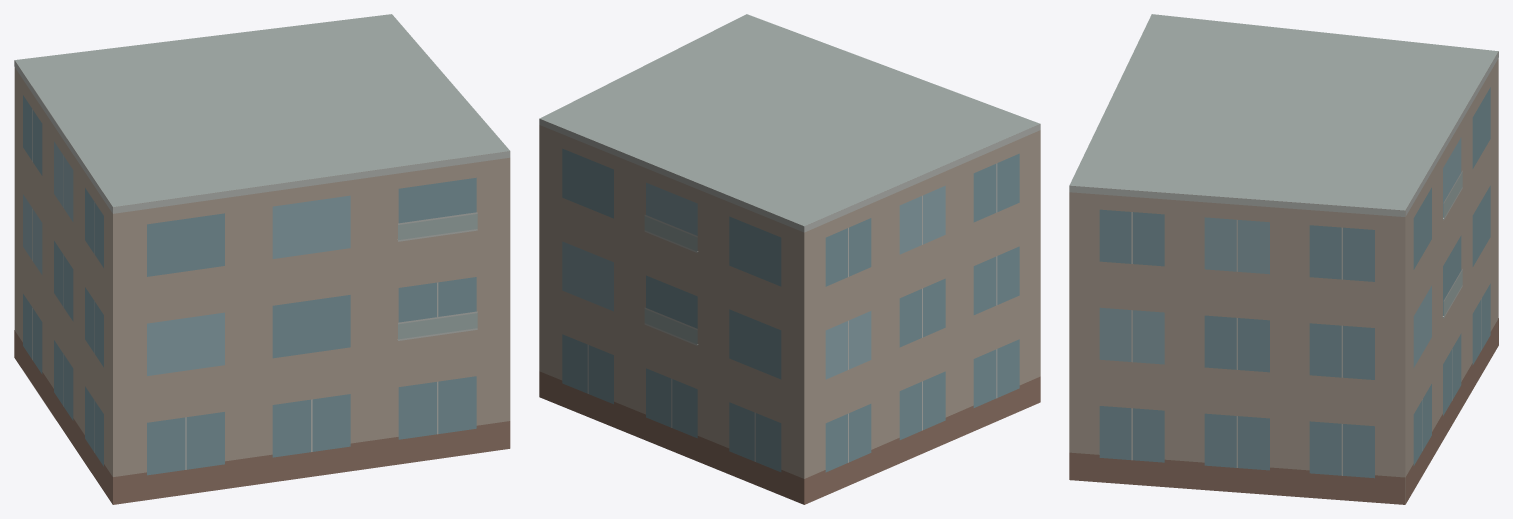
The model's file is survey-upis-32663397.glb.
The picture shows the model from 3 angles, left to right: view 1: azimuth 30°, elevation 25°; view 2: azimuth 150°, elevation 25°; view 3: azimuth 270°, elevation 25°; orthographic projection. The views are drawn at different scales.
Visible parts, largest first — view 1: survey-upis-32663397.tmp; view 2: survey-upis-32663397.tmp; view 3: survey-upis-32663397.tmp.
Boxes of the visible parts, x1,y1,x2,y2 form: survey-upis-32663397.tmp: (14,14,510,504); survey-upis-32663397.tmp: (539,14,1040,504); survey-upis-32663397.tmp: (1069,14,1498,504).
Bounding box in the file's own units: 15.54 × 10.85 × 14.35.
